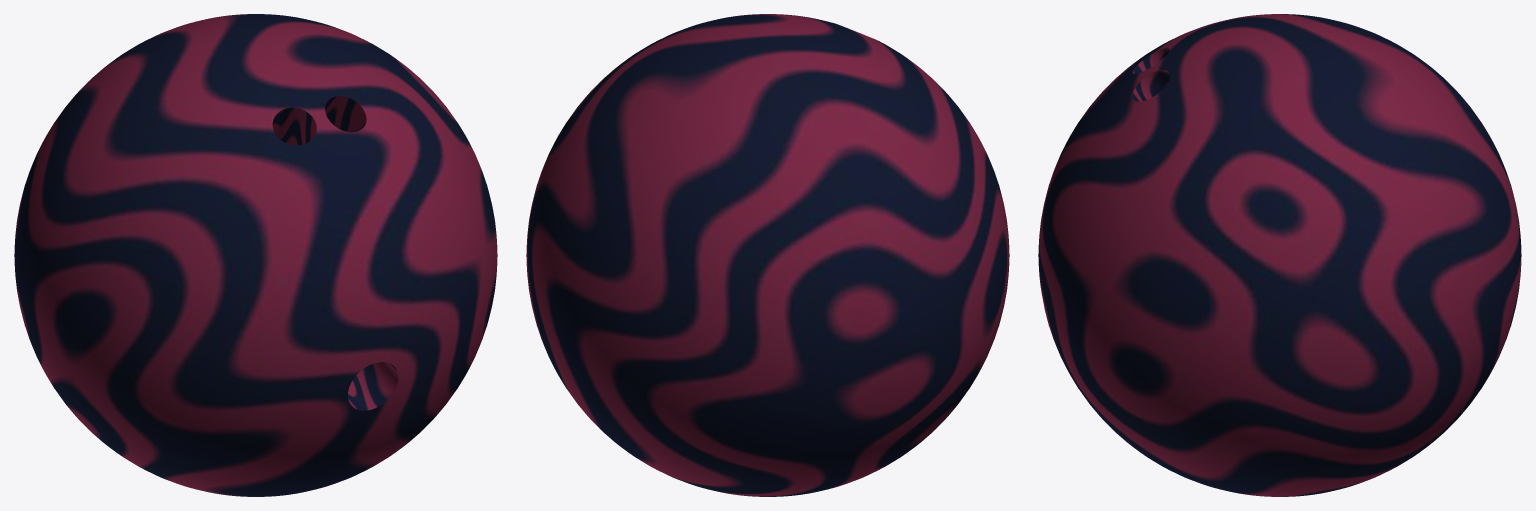
3 views of the same model, side by side, from view 1: azimuth 30°, elevation 25°; view 2: azimuth 150°, elevation 25°; view 3: azimuth 270°, elevation 25° (orthographic).
Visible parts, largest first — view 1: EXPORT_BALL_Shell; view 2: EXPORT_BALL_Shell; view 3: EXPORT_BALL_Shell.
Part boxes in pixels (x1=…): EXPORT_BALL_Shell: x1=14, y1=14, x2=497, y2=496; EXPORT_BALL_Shell: x1=526, y1=14, x2=1009, y2=496; EXPORT_BALL_Shell: x1=1038, y1=14, x2=1521, y2=496.
Bounding box in the file's own units: 0.2159 × 0.2159 × 0.2159.
Materials: 1 (1 with a texture image).
